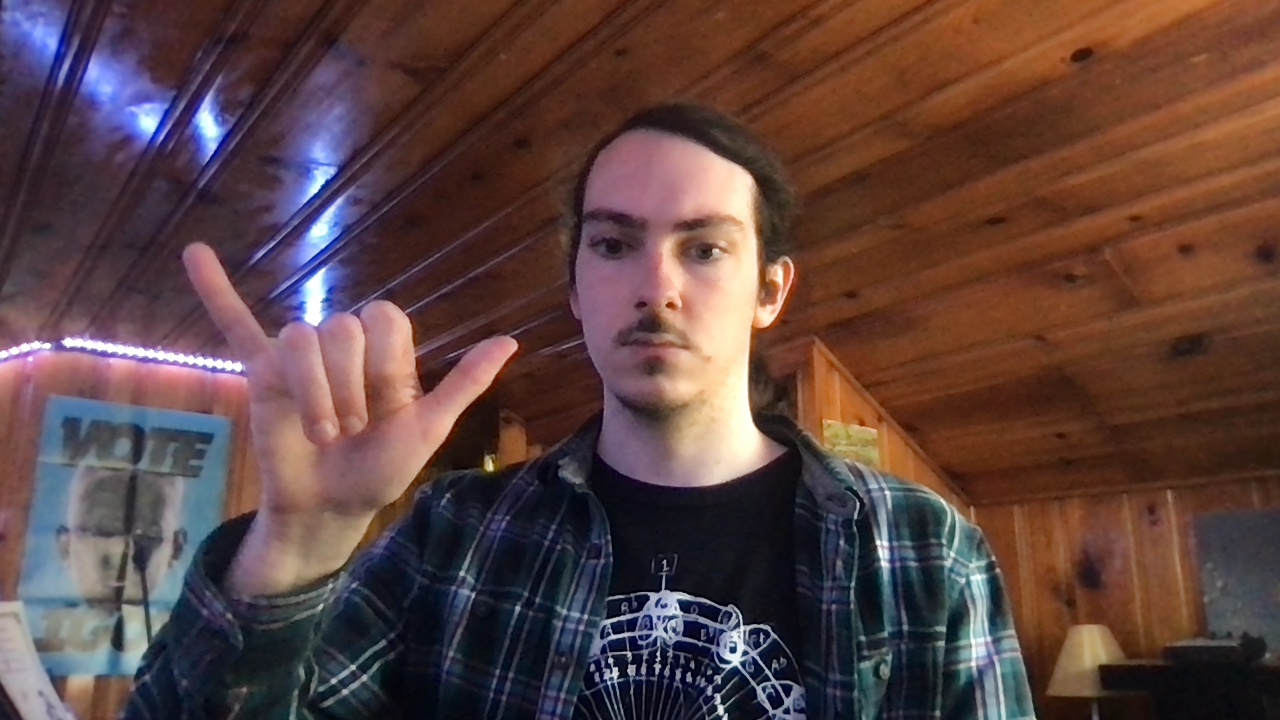y: (180, 241, 519, 515)
